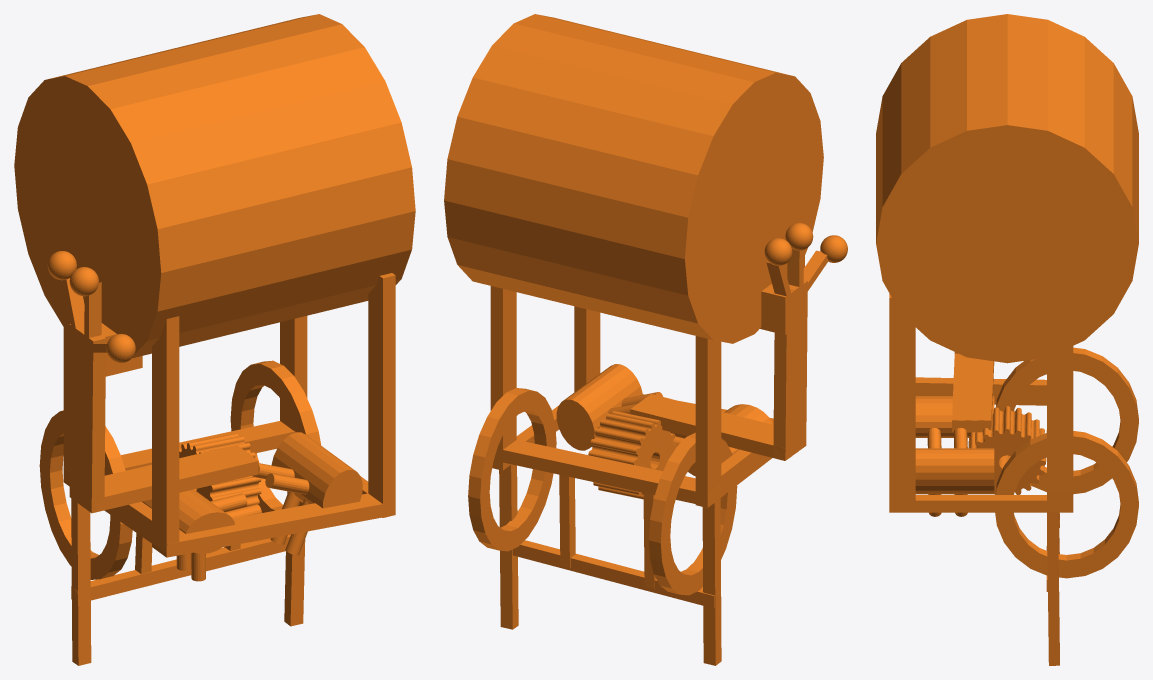
The model's file is tinker.obj.
The picture shows the model from 3 angles, left to right: view 1: azimuth 30°, elevation 25°; view 2: azimuth 150°, elevation 25°; view 3: azimuth 270°, elevation 25°; orthographic projection. The views are drawn at different scales.
Parts seen in each view (by area): view 1: obj_0; view 2: obj_0; view 3: obj_0.
Boxes of the visible parts, x1,y1,x2,y2 form: obj_0: (14, 14, 415, 665); obj_0: (444, 14, 847, 665); obj_0: (876, 14, 1138, 665).
Size of the model in its own units: 23 by 46 by 20.
